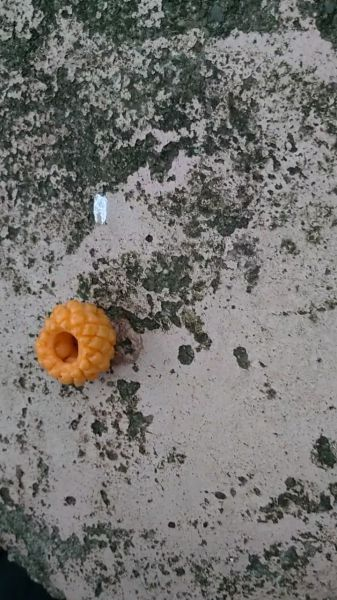eggs: (29, 299, 119, 384)
